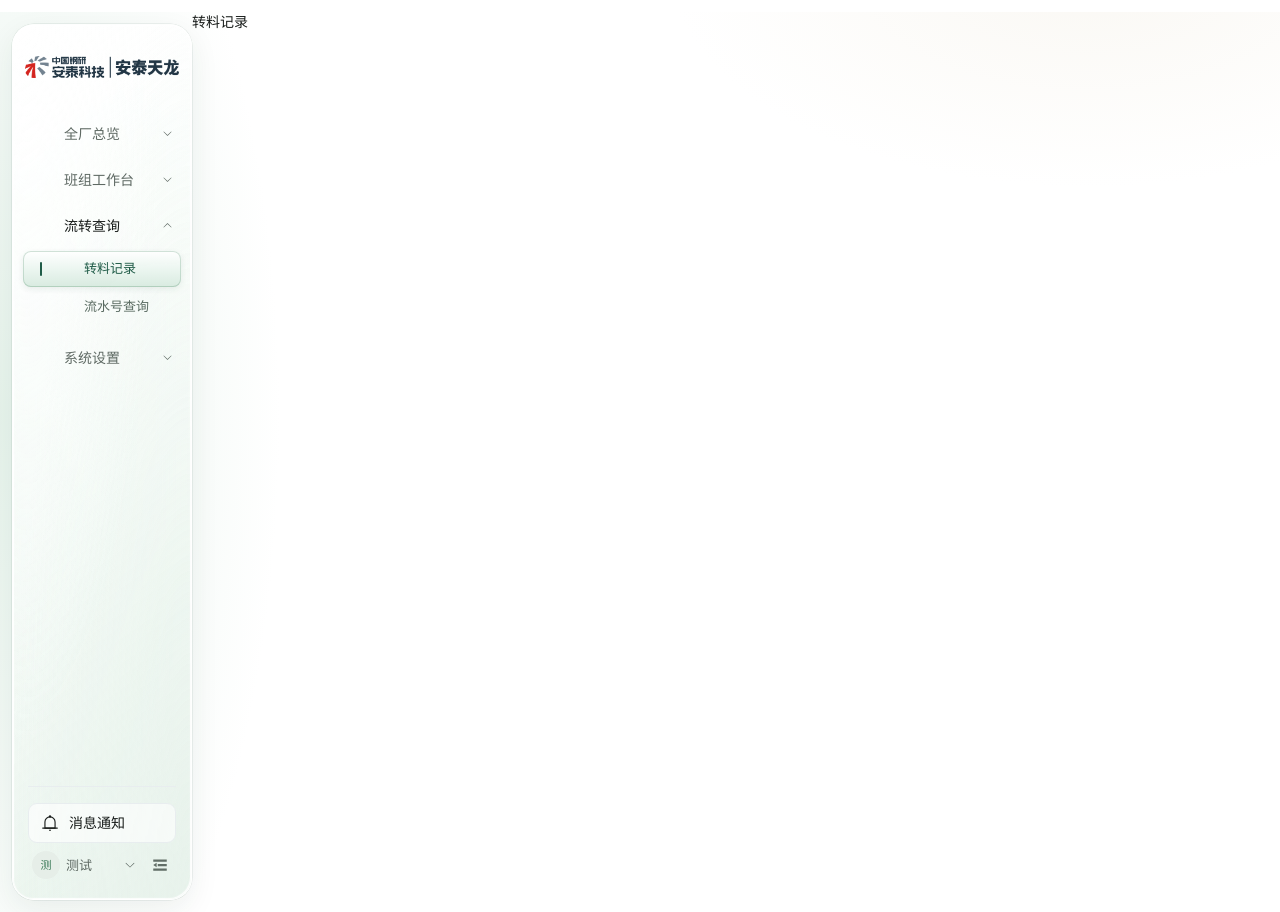
Test: application navigation shell › keeps all phase-one destinations available in desktop compact mode
This screenshot has width=1280, height=912.
Step 1. Click the button with class "sidebar__collapse" → x=160, y=865, box [144,847,176,883]
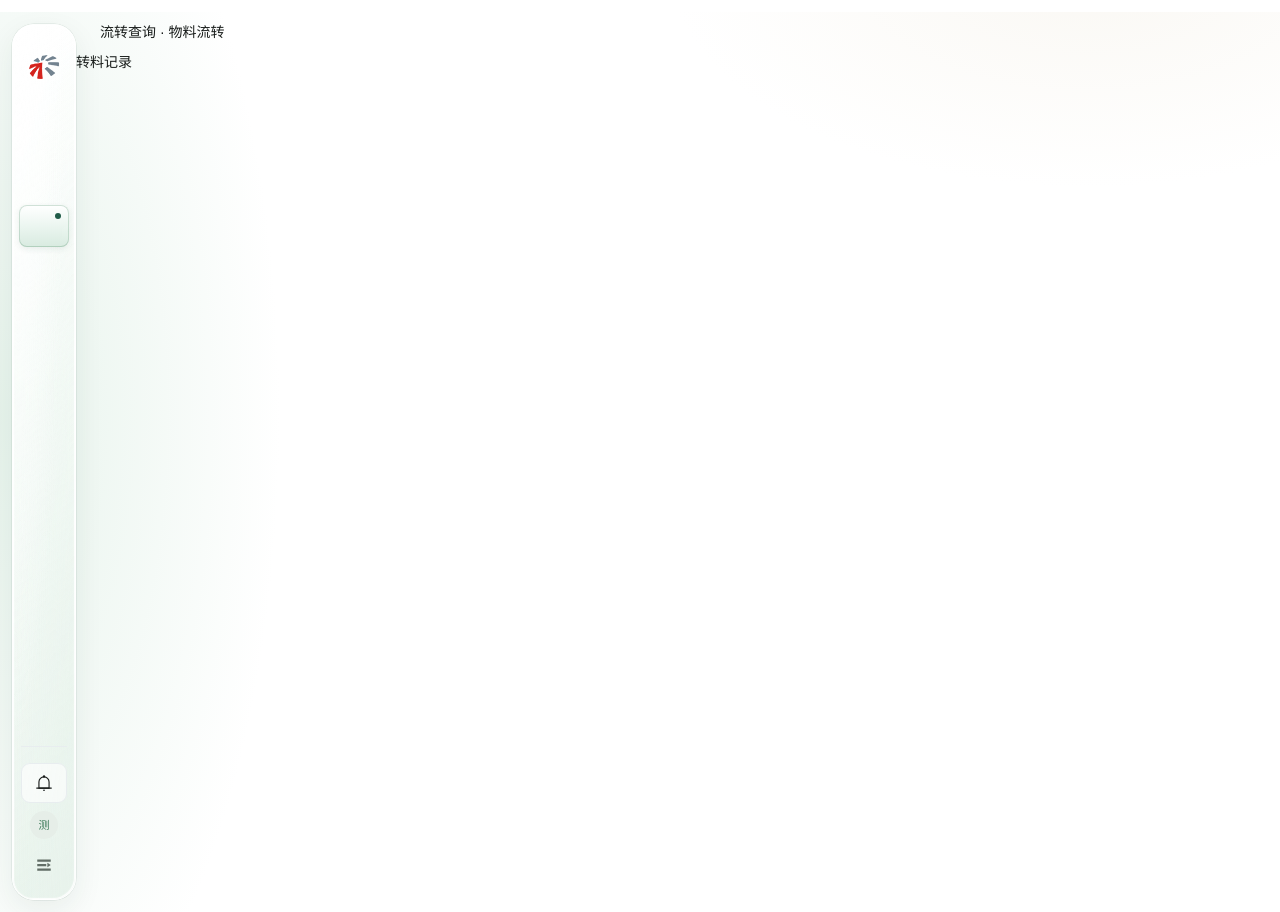
Result: the text with class "topbar__location" reads "流转查询 · 物料流转" at [100,24,224,40]
Step 2. Click the button with class "sidebar__collapse" → x=44, y=865, box [21,847,67,883]
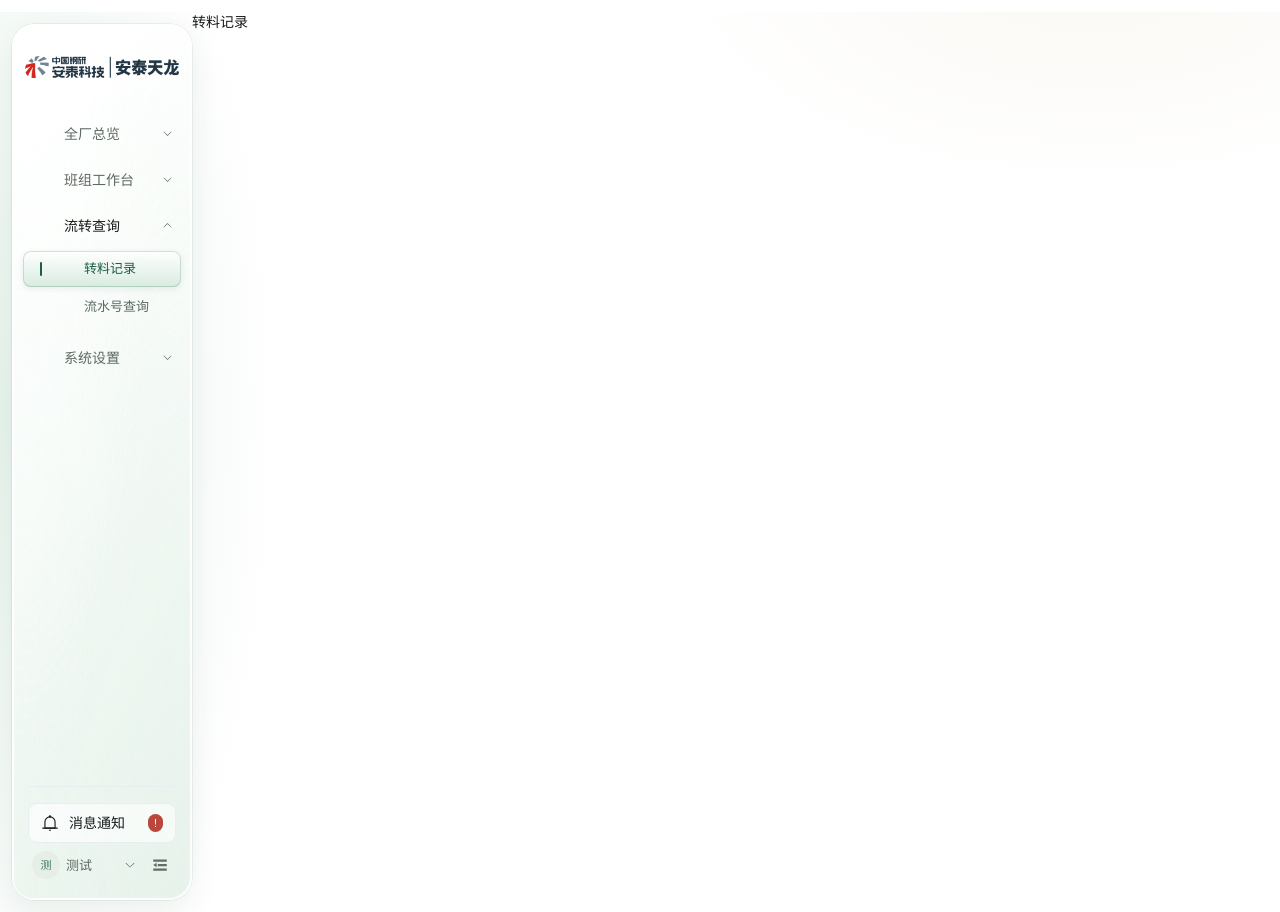
Result: the menu item with aria-label "转料记录" reads "转料记录" at [23,251,181,287]
